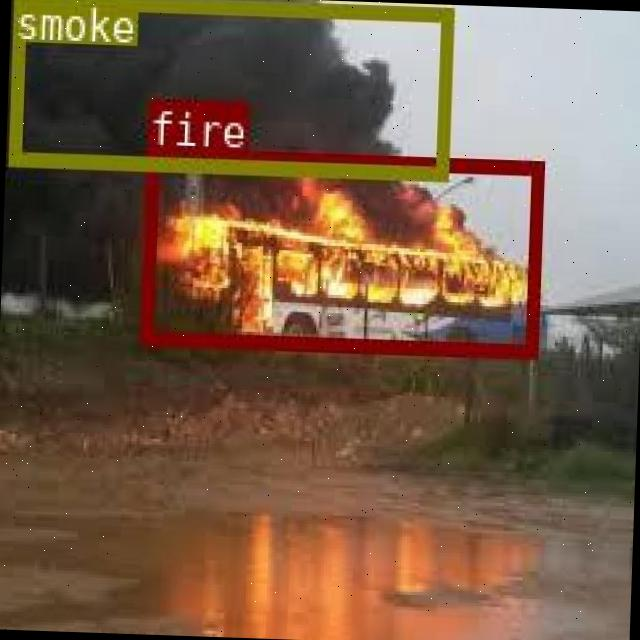fire: (139, 146, 541, 354)
smoke: (6, 0, 452, 176)
